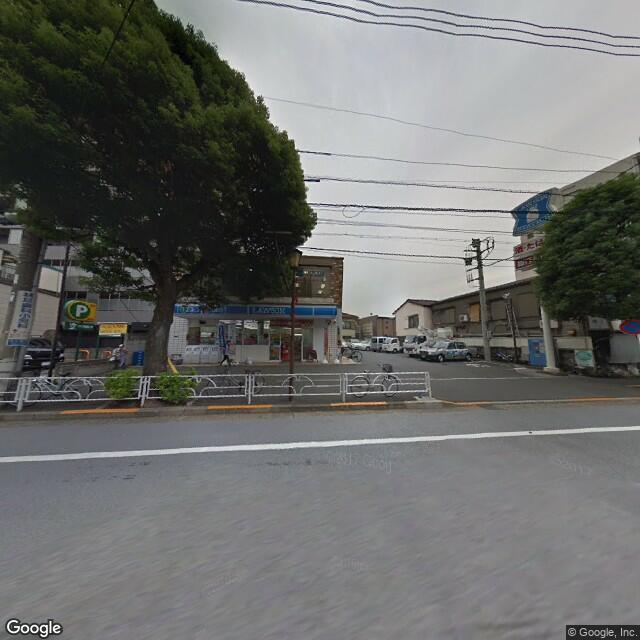lawson: (173, 300, 339, 319), (509, 183, 560, 239)
